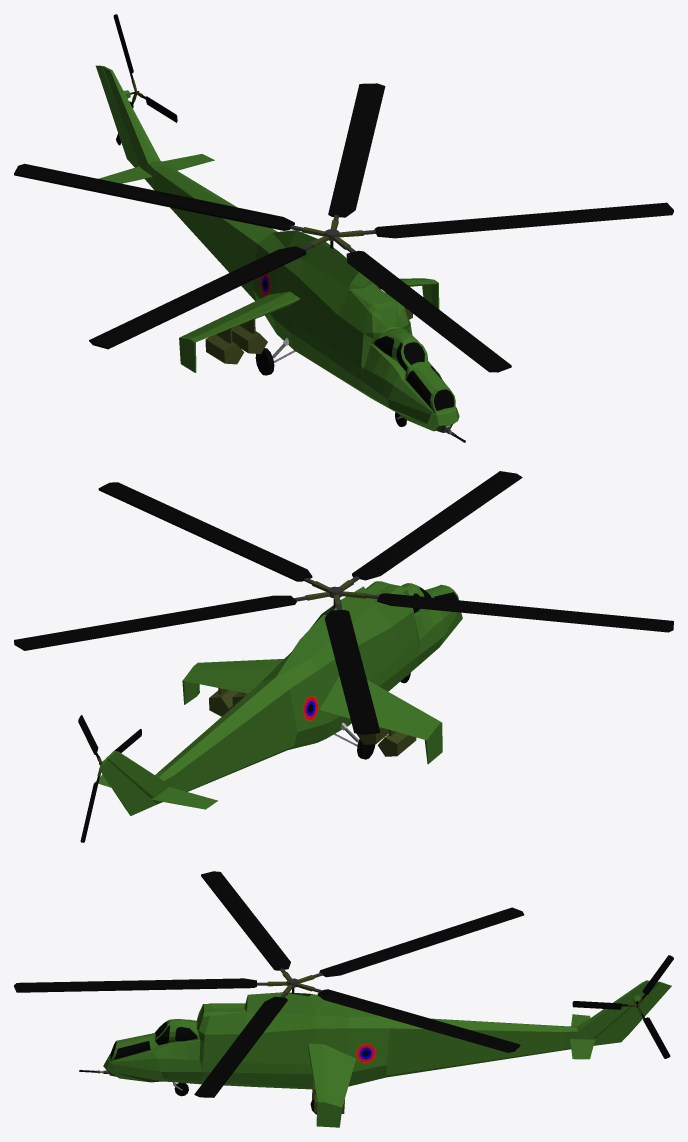
3 renders of one model, top to bottom at view 1: azimuth 30°, elevation 25°; view 2: azimuth 150°, elevation 25°; view 3: azimuth 270°, elevation 25°, orthographic. The views are drawn at different scales.
Parts seen in each view (by area): view 1: Plane.052, Circle.004, Plane.055, Plane.060; view 2: Plane.052, Circle.004, Plane.060; view 3: Plane.052, Circle.004, Plane.060, Plane.064, Plane.063.
Part boxes in pixels (x1,y1,x2,y2): Plane.052: [95, 65, 459, 431]; Circle.004: [14, 83, 673, 372]; Plane.055: [364, 334, 398, 378]; Plane.060: [113, 14, 177, 145]; Plane.052: [95, 581, 462, 815]; Circle.004: [14, 471, 673, 734]; Plane.060: [78, 715, 141, 842]; Plane.052: [103, 980, 671, 1127]; Circle.004: [14, 871, 524, 1097]; Plane.060: [572, 955, 673, 1058]; Plane.064: [171, 1025, 200, 1060]; Plane.063: [113, 1038, 151, 1060].
Bounding box in the file's own units: 2301 × 707 × 2853.
